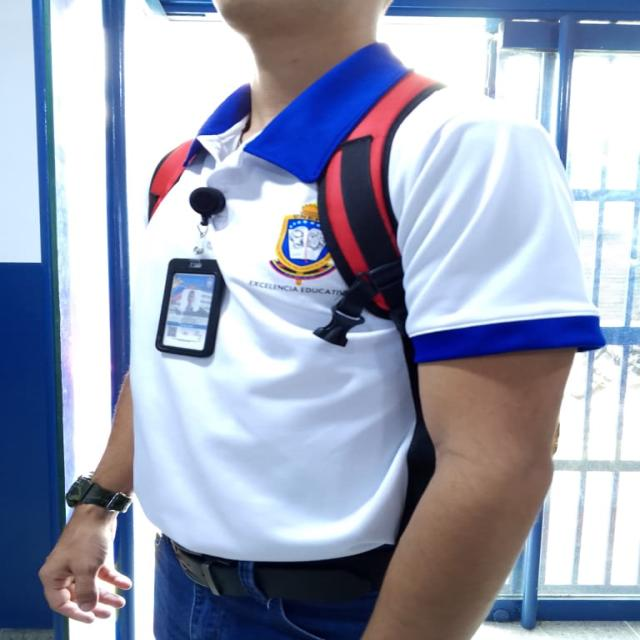carnet: (162, 273, 215, 351)
uniforme_superior: (129, 41, 607, 563)
